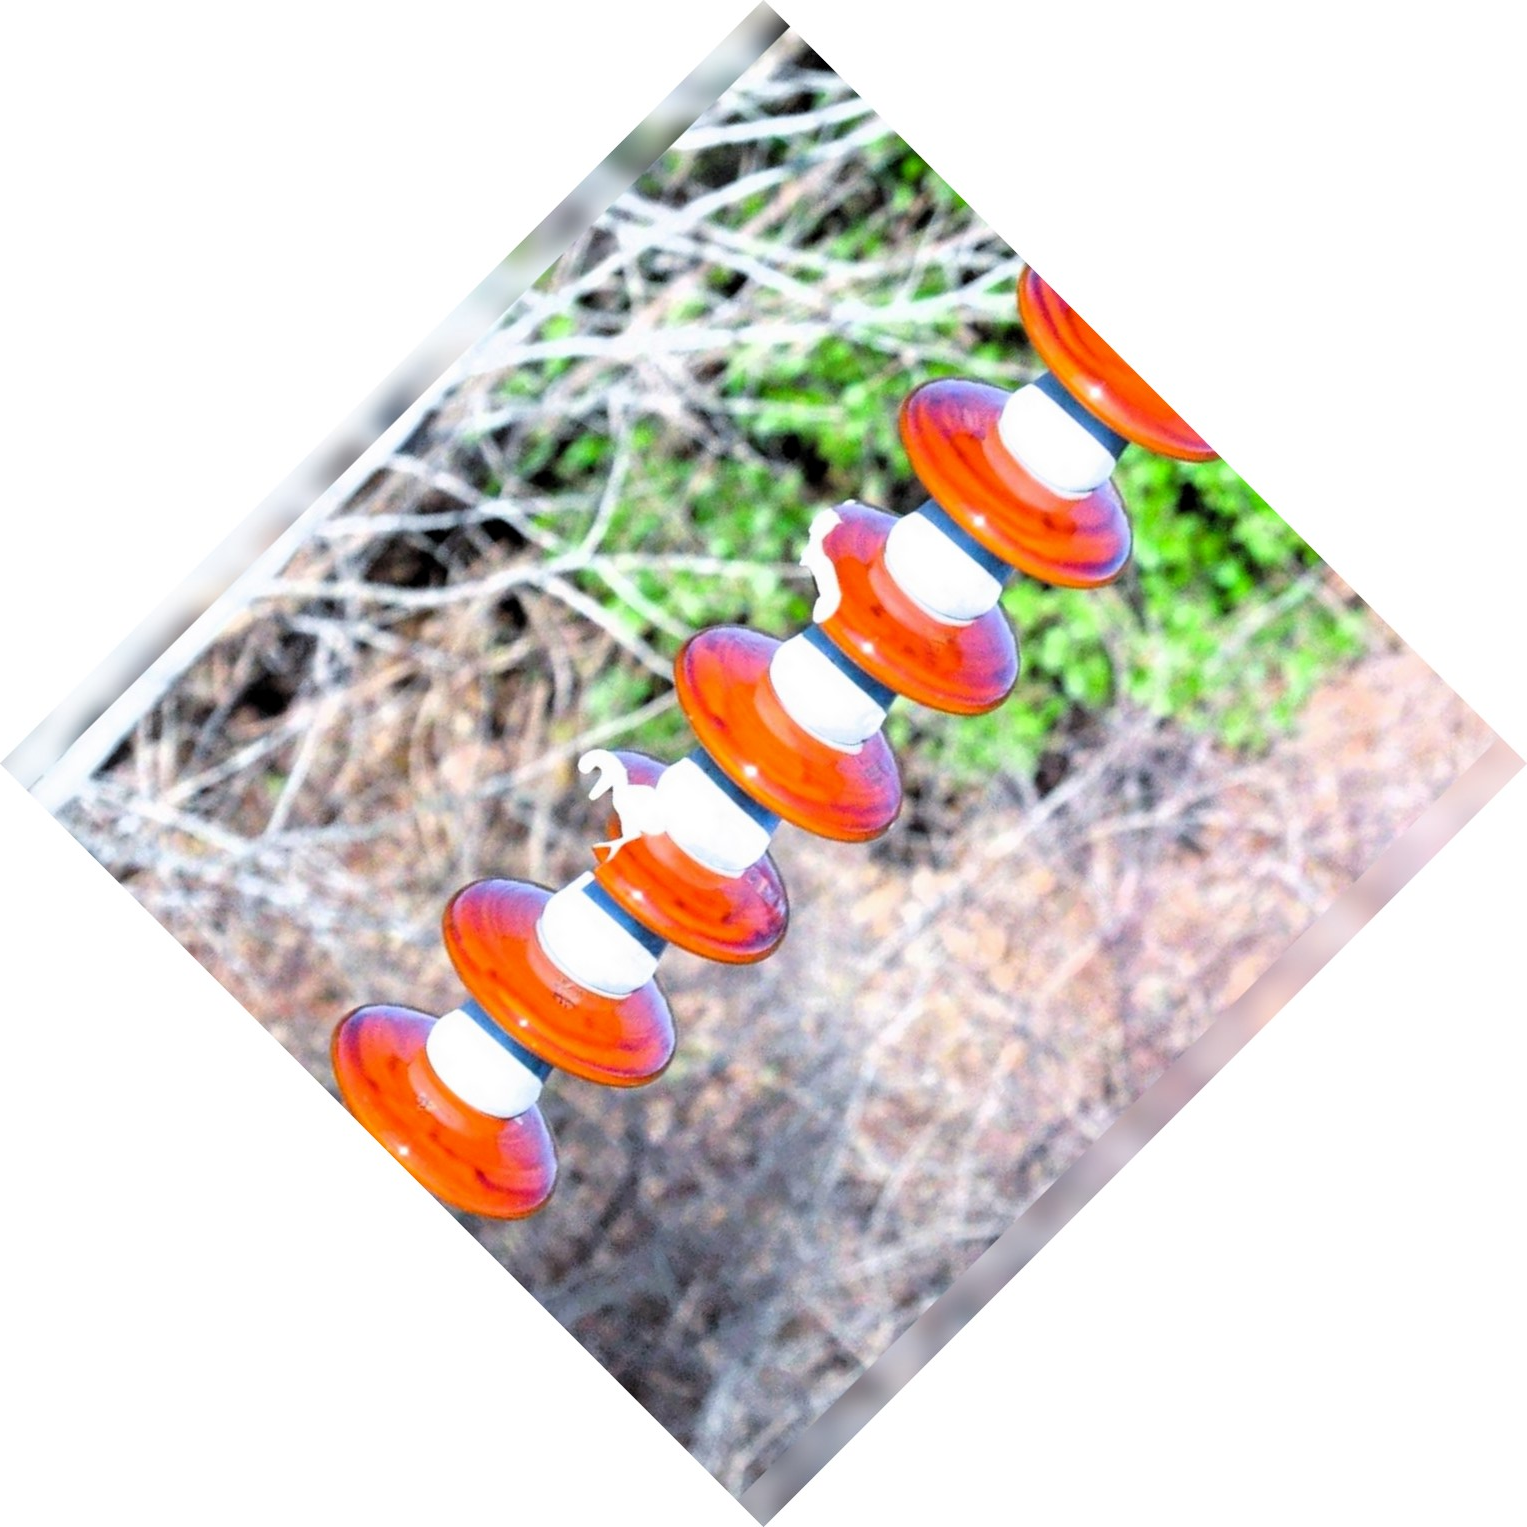insulator breakage: (552, 720, 796, 970), (791, 466, 1024, 712)
